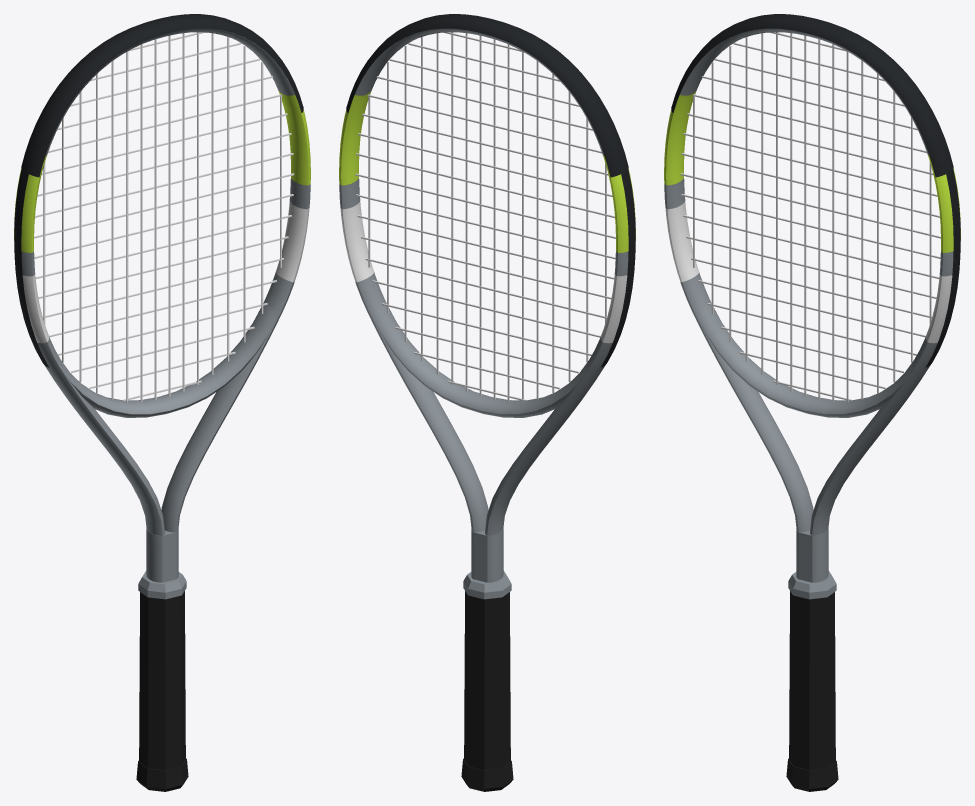
The model's file is babolat-evo-aero-2022.glb.
3 renders of one model, left to right at view 1: azimuth 30°, elevation 25°; view 2: azimuth 150°, elevation 25°; view 3: azimuth 330°, elevation 25°, orthographic.
Visible parts, largest first — view 1: frame, strings_mains, strings_crosses, grip, bumper, grommets, butt_cap, collar; view 2: frame, strings_mains, strings_crosses, grip, bumper, grommets, butt_cap, collar; view 3: frame, strings_mains, strings_crosses, grip, bumper, grommets, butt_cap, collar.
Part boxes in pixels (box(x1,y1,x2,y2)): frame: box(14, 28, 310, 582); strings_mains: box(43, 32, 281, 402); strings_crosses: box(34, 32, 294, 401); grip: box(139, 591, 185, 770); bumper: box(21, 14, 303, 177); grommets: box(14, 169, 48, 367); butt_cap: box(136, 758, 188, 791); collar: box(138, 571, 186, 599); frame: box(339, 28, 635, 582); strings_mains: box(368, 32, 606, 401); strings_crosses: box(355, 32, 615, 401); grip: box(464, 591, 510, 770); bumper: box(346, 14, 628, 177); grommets: box(601, 169, 635, 367); butt_cap: box(461, 758, 513, 791); collar: box(463, 571, 511, 599); frame: box(664, 28, 960, 582); strings_mains: box(693, 32, 931, 402); strings_crosses: box(680, 32, 940, 401); grip: box(789, 591, 835, 770); bumper: box(671, 14, 953, 177); grommets: box(926, 169, 960, 367); butt_cap: box(786, 758, 838, 791); collar: box(788, 571, 836, 599).
Size of the model in its own units: 0.2742 by 0.6861 by 0.0396.
